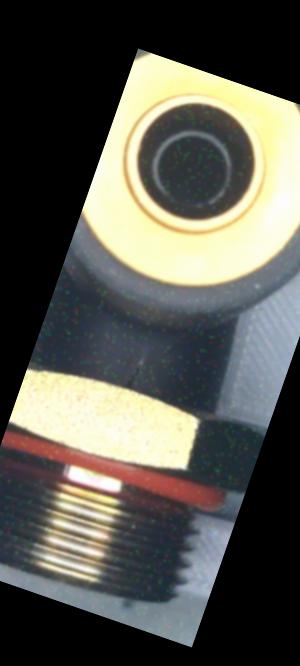craze: (114, 354, 146, 396)
